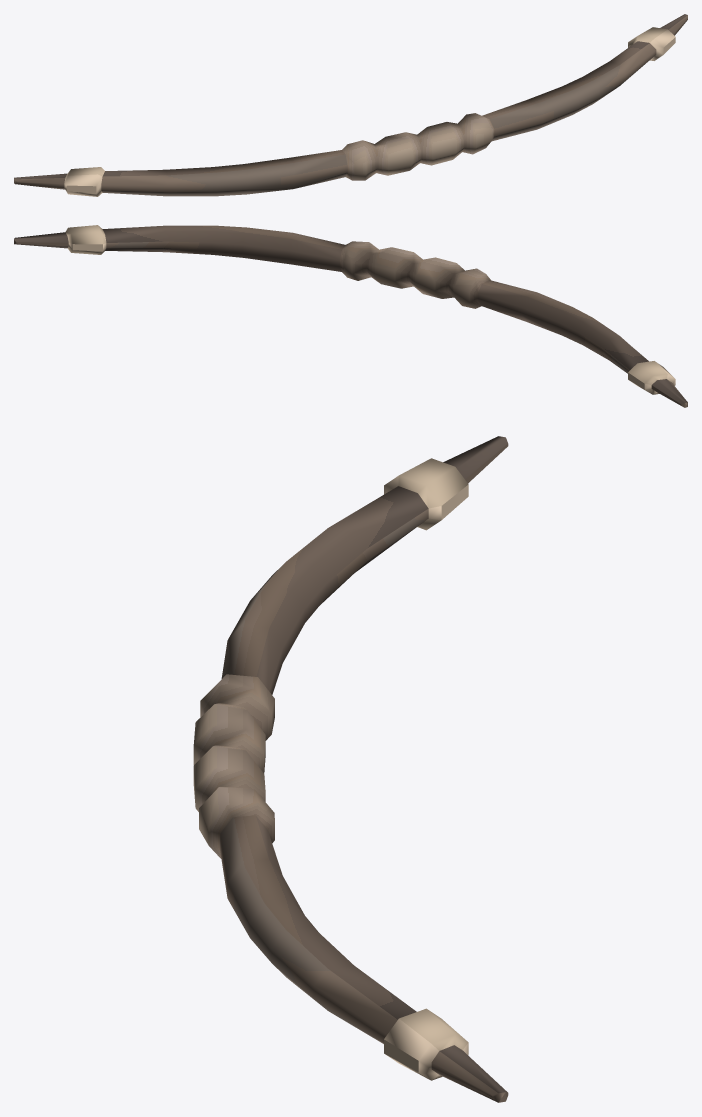
The model's file is bow_a.glb.
3 views of the same model, one above another, from view 1: azimuth 30°, elevation 25°; view 2: azimuth 150°, elevation 25°; view 3: azimuth 270°, elevation 25° (orthographic). The views are drawn at different scales.
Visible parts, largest first — view 1: bow_a; view 2: bow_a; view 3: bow_a.
Boxes of the visible parts, x1=… form: bow_a: x1=14, y1=14, x2=687, y2=196; bow_a: x1=14, y1=225, x2=687, y2=407; bow_a: x1=193, y1=436, x2=508, y2=1102.
Bounding box in the file's own units: 1.96 × 0.0916 × 0.3958.
Materials: 1 (1 with a texture image).
